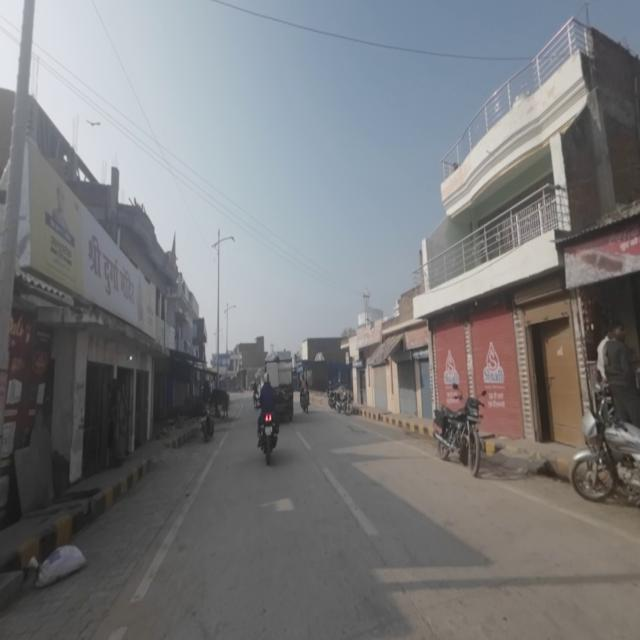Garbage: (31, 540, 88, 594)
